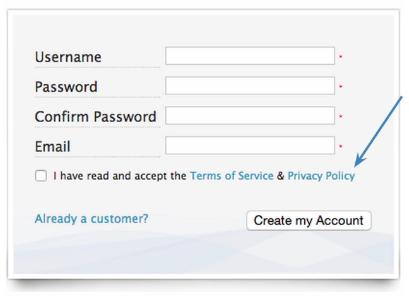button: (233, 203, 375, 238)
checkbox: (31, 164, 353, 192)
textbox: (156, 43, 350, 72)
